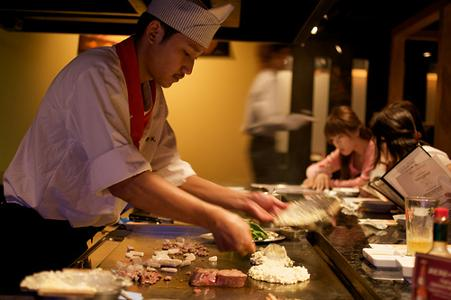person: (2, 2, 280, 288)
